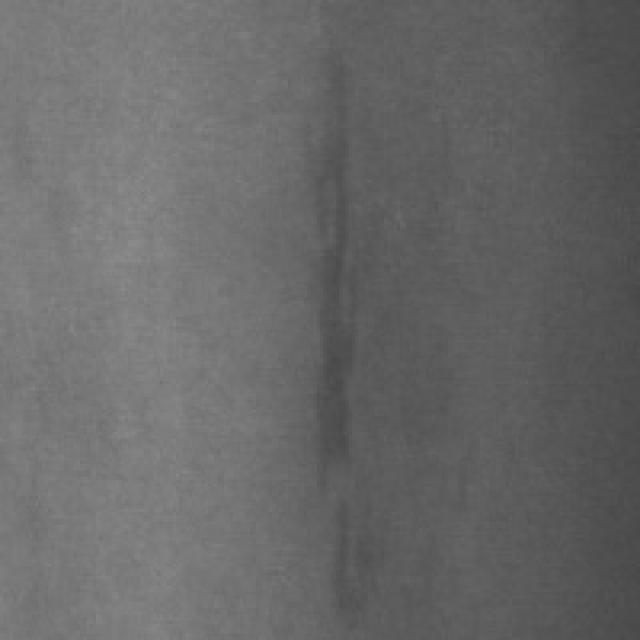inclusion: (304, 0, 384, 502), (330, 461, 387, 630)
